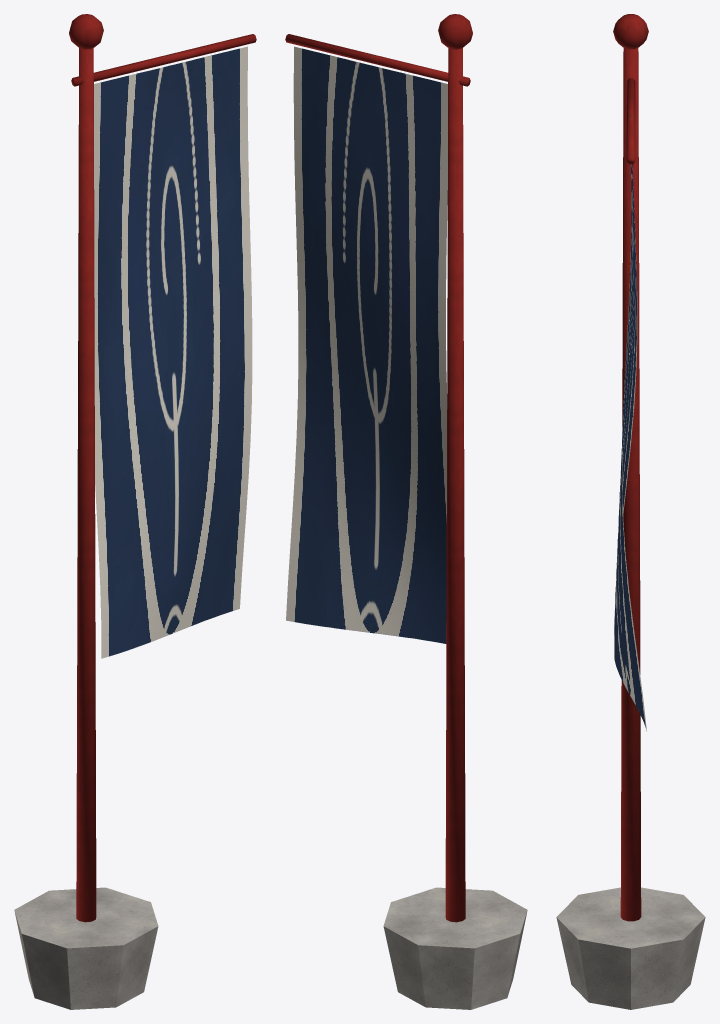
Rendered from sect_banner.glb.
3 renders of one model, left to right at view 1: azimuth 30°, elevation 25°; view 2: azimuth 150°, elevation 25°; view 3: azimuth 270°, elevation 25°, orthographic.
Visible parts, largest first — view 1: BannerCloth, BannerPole, BannerBase; view 2: BannerCloth, BannerPole, BannerBase; view 3: BannerBase, BannerPole, BannerCloth.
Part boxes in pixels (x1,y1,x2,y2): BannerCloth: (94,46,252,658); BannerPole: (69,14,256,922); BannerBase: (14,887,158,1009); BannerCloth: (286,46,447,643); BannerPole: (285,14,472,922); BannerBase: (383,887,527,1009); BannerBase: (556,887,705,1009); BannerPole: (613,14,648,921); BannerCloth: (614,164,646,731).
Size of what is drawn, in the model's own units: 1.8 by 7.17 by 1.
Materials: 3 (3 with a texture image).
